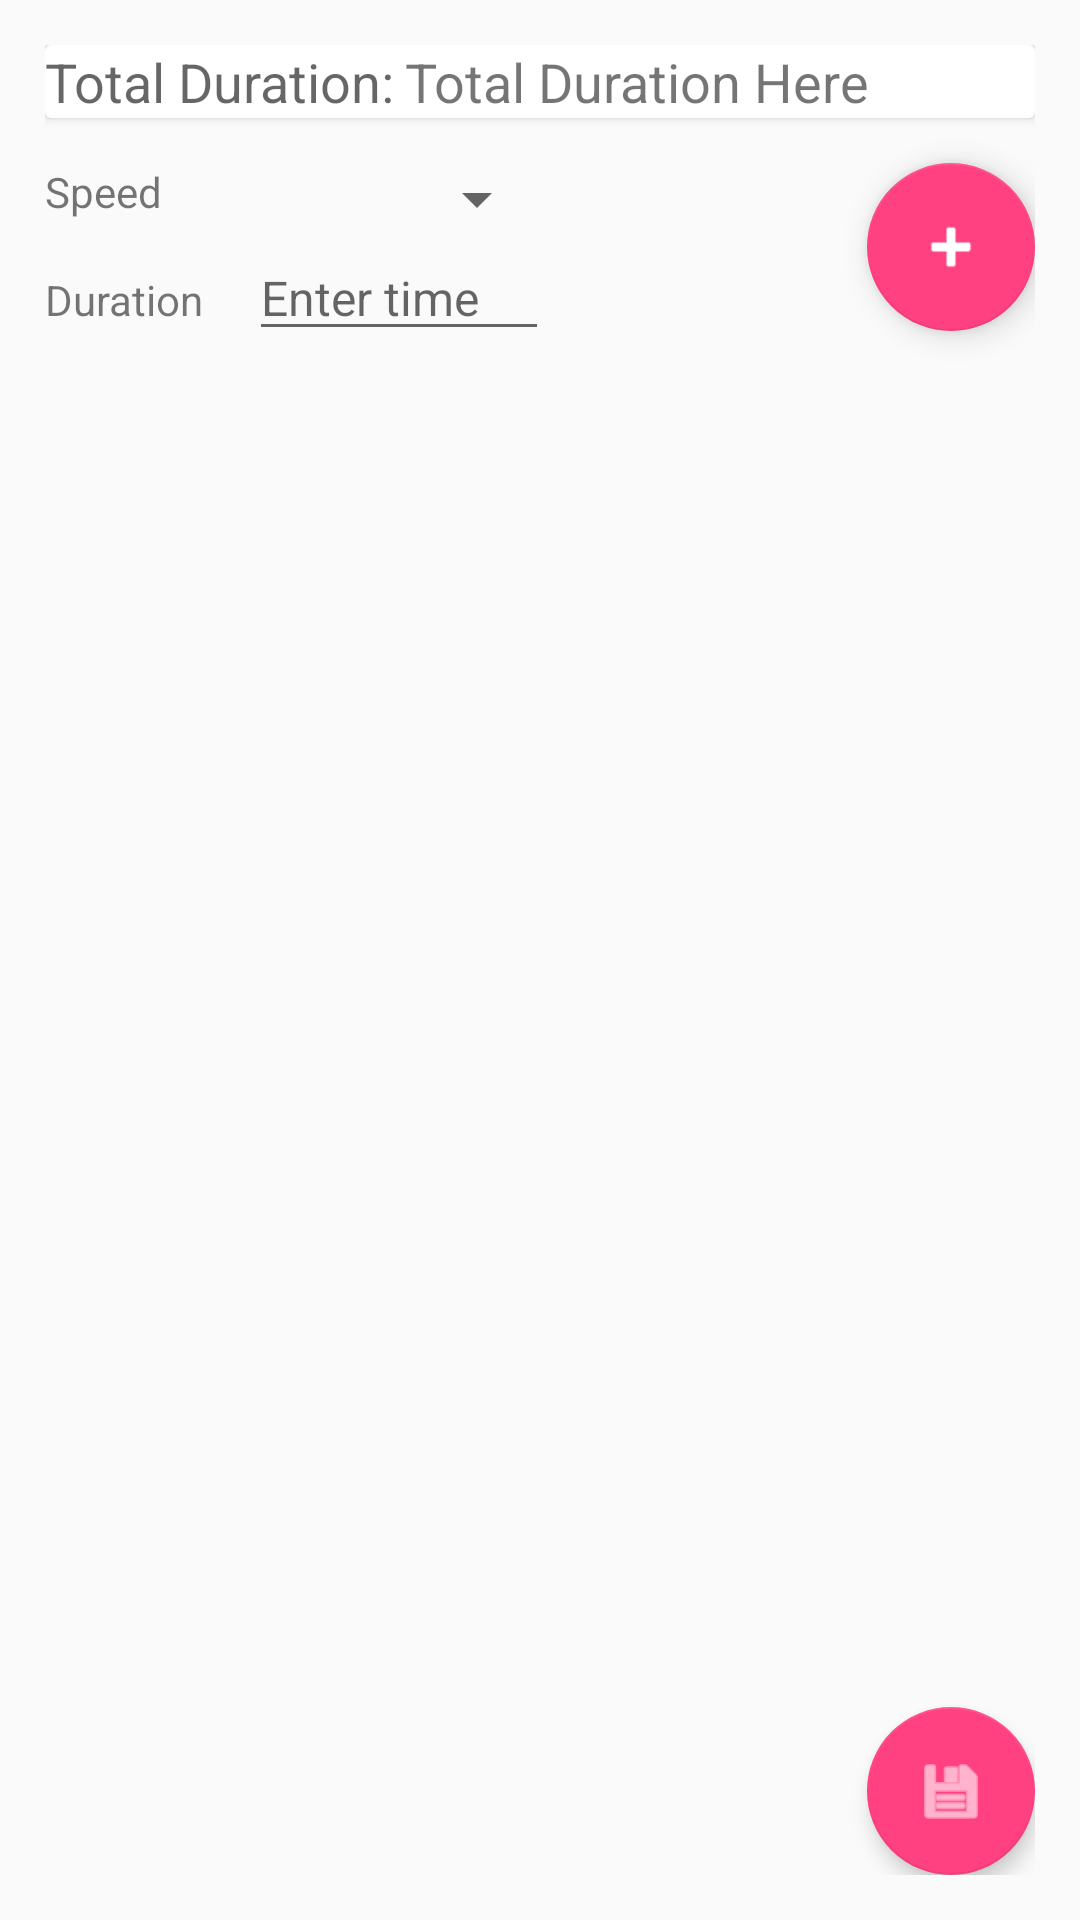

Where icons sit on this 1080 x 1920 app screen, as [x1, y1, x2, y2]:
add: [867, 163, 1035, 331]
save: [867, 1707, 1035, 1875]
